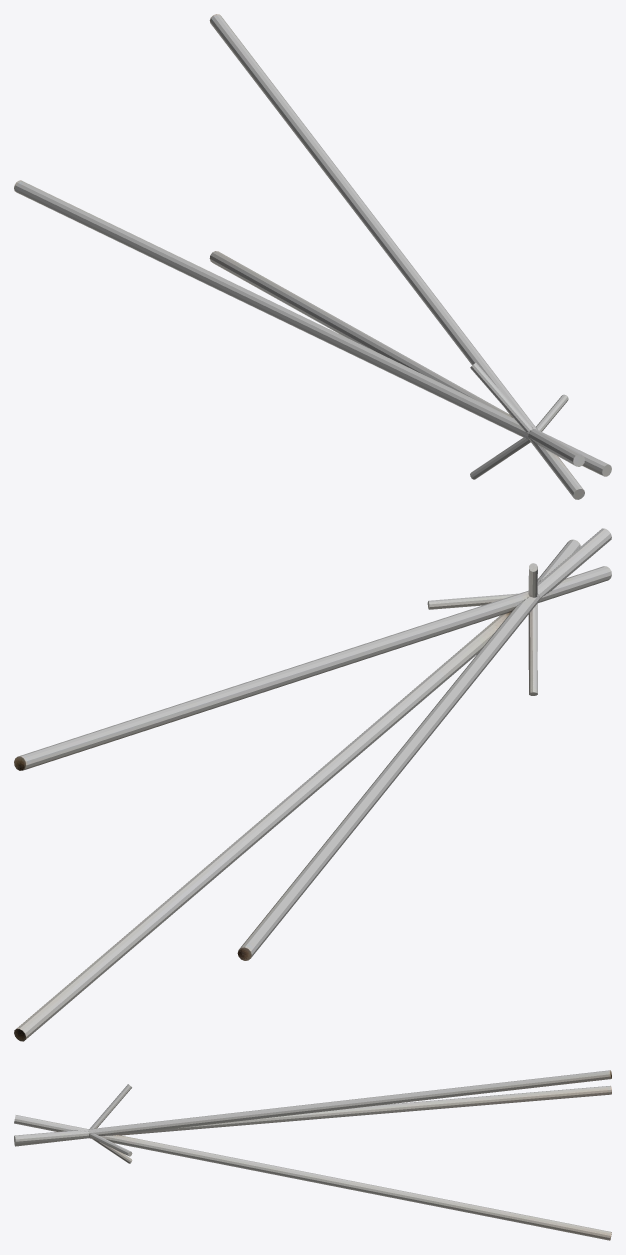
The picture shows the model from 3 angles, top to bottom: view 1: azimuth 30°, elevation 25°; view 2: azimuth 150°, elevation 25°; view 3: azimuth 270°, elevation 25°; orthographic projection. The views are drawn at different scales.
Parts seen in each view (by area): view 1: E6_final.001; view 2: E6_final.001; view 3: E6_final.001.
Part boxes in pixels (bbox=[...]): E6_final.001: bbox=[14, 14, 611, 499]; E6_final.001: bbox=[14, 528, 611, 1041]; E6_final.001: bbox=[14, 1070, 611, 1240].
Bounding box in the file's own units: 0.4757 × 0.5452 × 1.74.
Materials: 1 (1 with a texture image).
